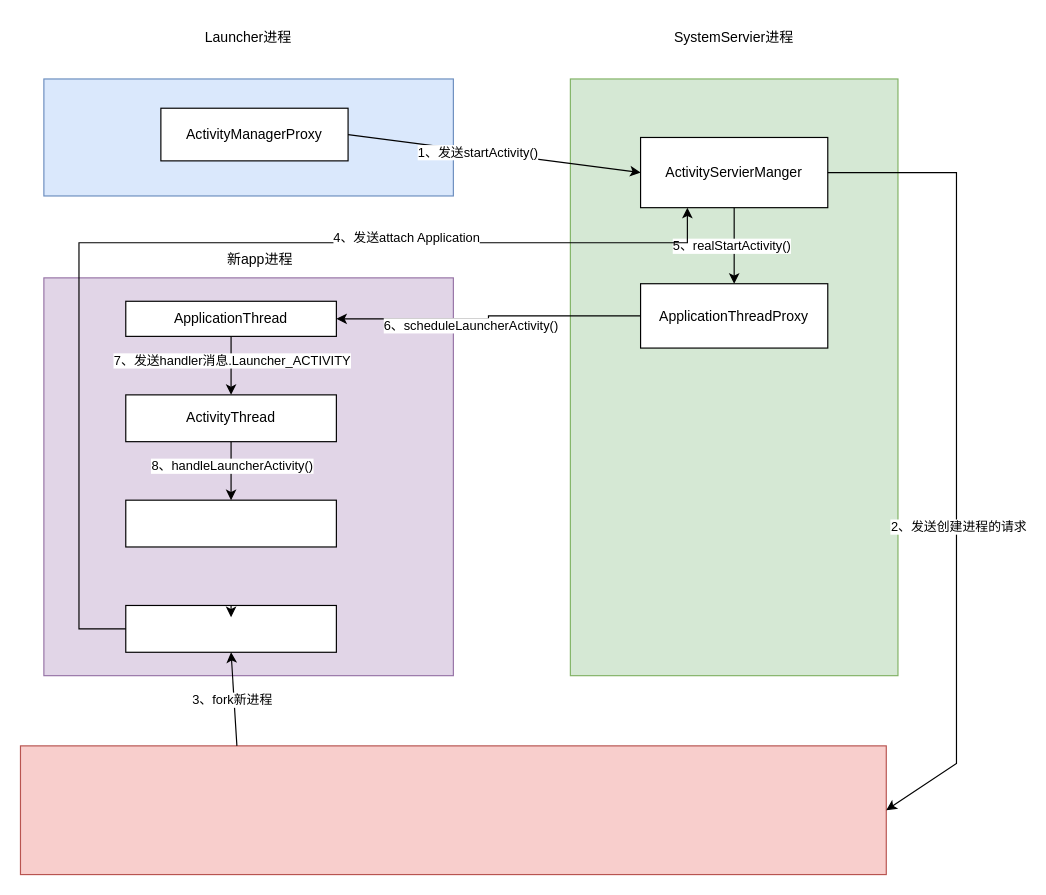
This 1046x895 diagram has some shape labels left out. Here are the shapes that lost their labels. From the top down, the centre of each, then its label:
At point (230, 523): "Acivity.onCreate".
At point (230, 628): "ActivityThread.main()".
At point (452, 810): "zygeto进程".
